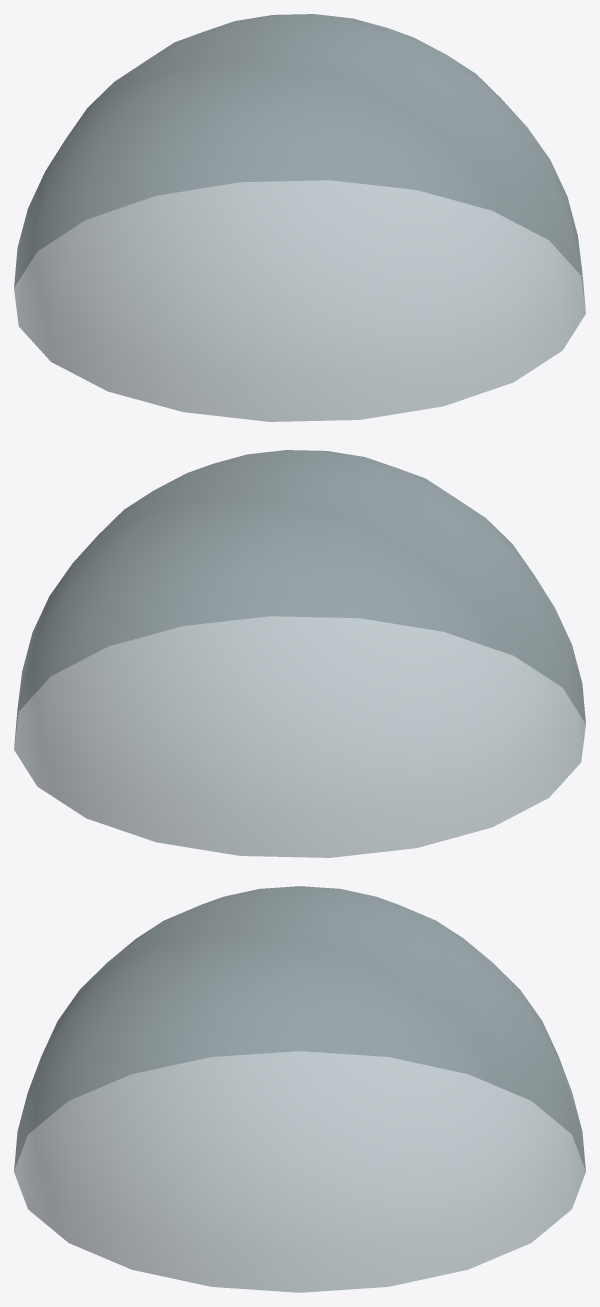
File: Bubble_Building.fbx
The picture shows the model from 3 angles, top to bottom: view 1: azimuth 30°, elevation 25°; view 2: azimuth 150°, elevation 25°; view 3: azimuth 270°, elevation 25°; orthographic projection.
Visible parts, largest first — view 1: pSphere1; view 2: pSphere1; view 3: pSphere1.
Part boxes in pixels (x1=…): pSphere1: x1=14, y1=14, x2=585, y2=421; pSphere1: x1=14, y1=450, x2=585, y2=857; pSphere1: x1=14, y1=886, x2=585, y2=1292.
Size of the model in its own units: 484 by 242 by 484.
